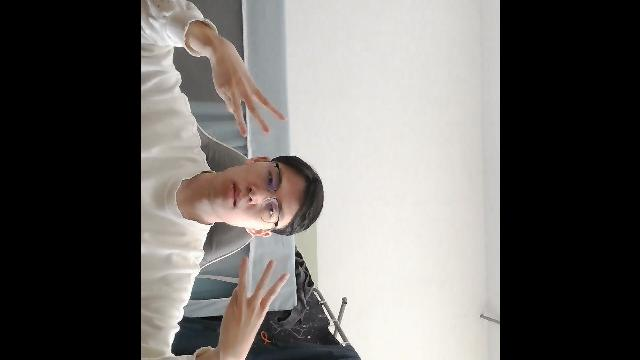three: (206, 34, 286, 139), (217, 252, 288, 360)
